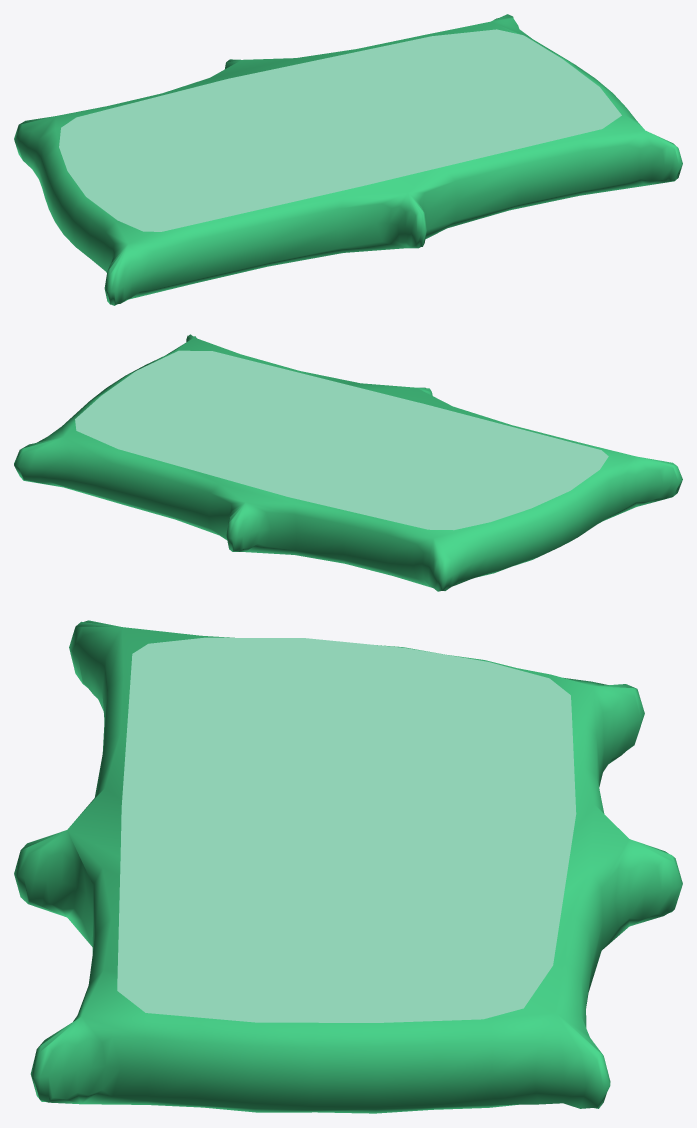
File: exchanger.fbx
The picture shows the model from 3 angles, top to bottom: view 1: azimuth 30°, elevation 25°; view 2: azimuth 150°, elevation 25°; view 3: azimuth 270°, elevation 25°; orthographic projection. The views are drawn at different scales.
Visible parts, largest first — view 1: exchanger; view 2: exchanger; view 3: exchanger.
Boxes of the visible parts, <box> form: exchanger: <box>14,14,682,305</box>; exchanger: <box>14,334,682,591</box>; exchanger: <box>14,620,682,1113</box>.
Size of the model in its own units: 66.58 by 6.44 by 42.4.
